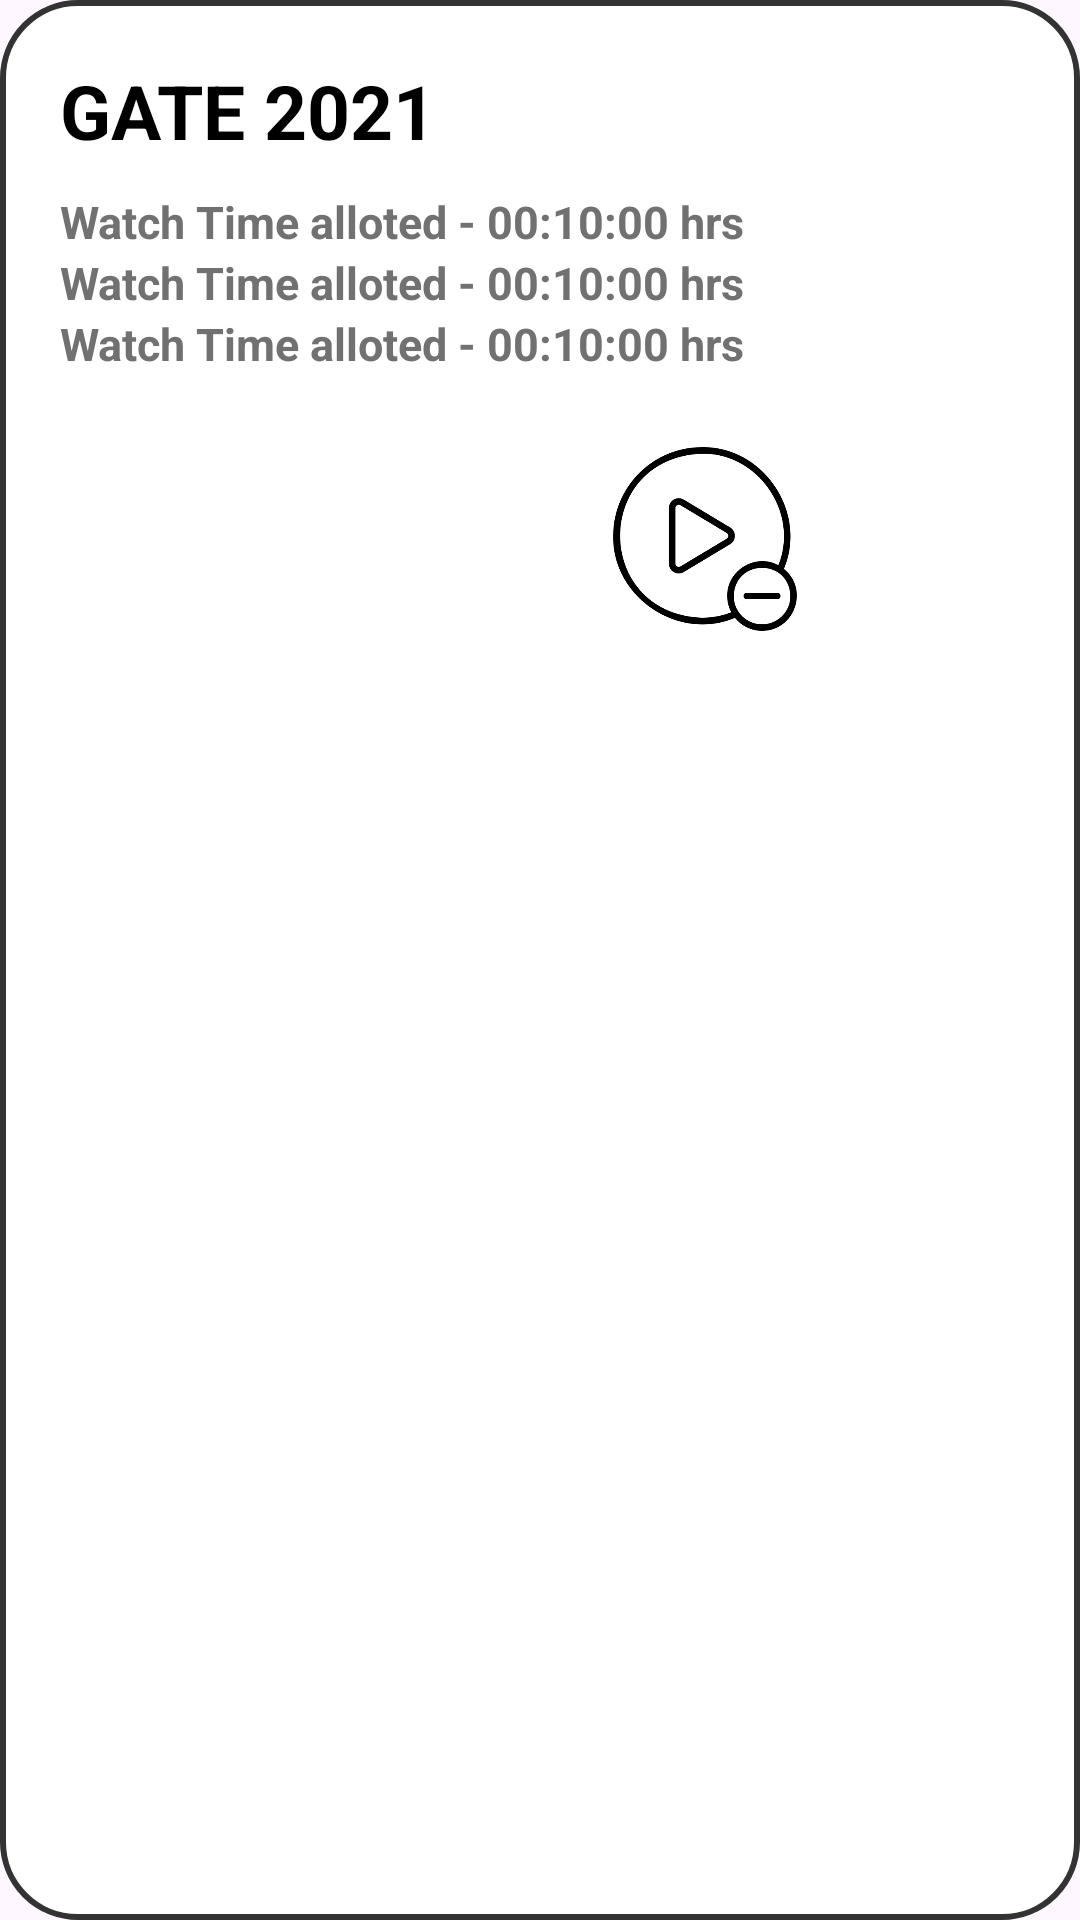

Where icons sit on this 1080*1920 app screen, as Rect(x1, y1, x2, y2):
donotplay: Rect(613, 447, 797, 631)
